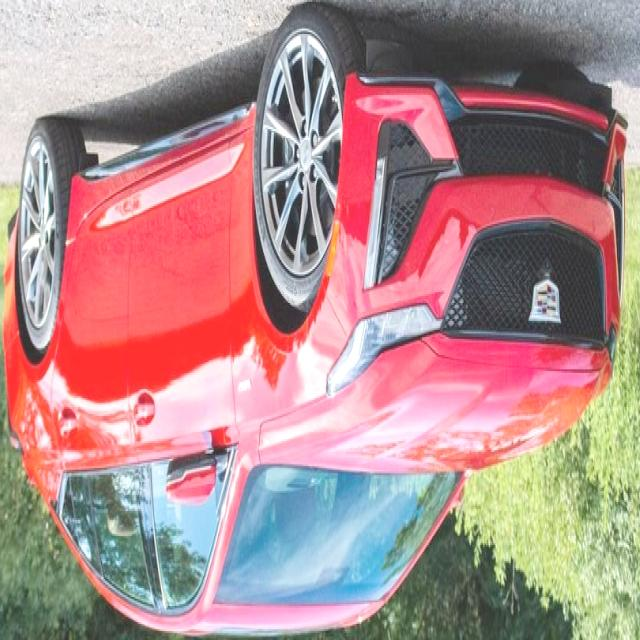red: (8, 85, 620, 630)
